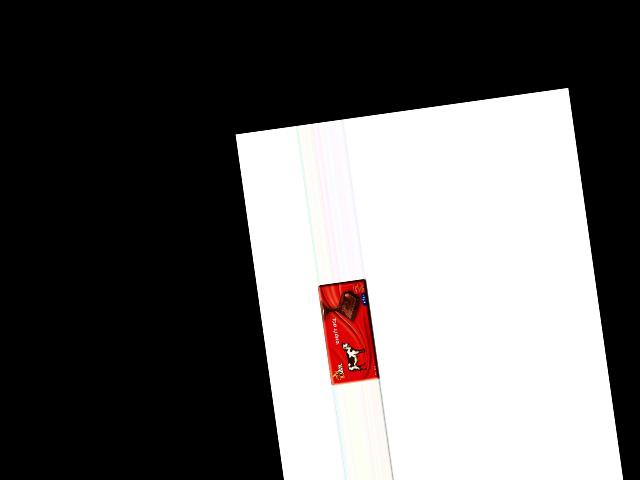chocolate: (317, 278, 379, 386)
